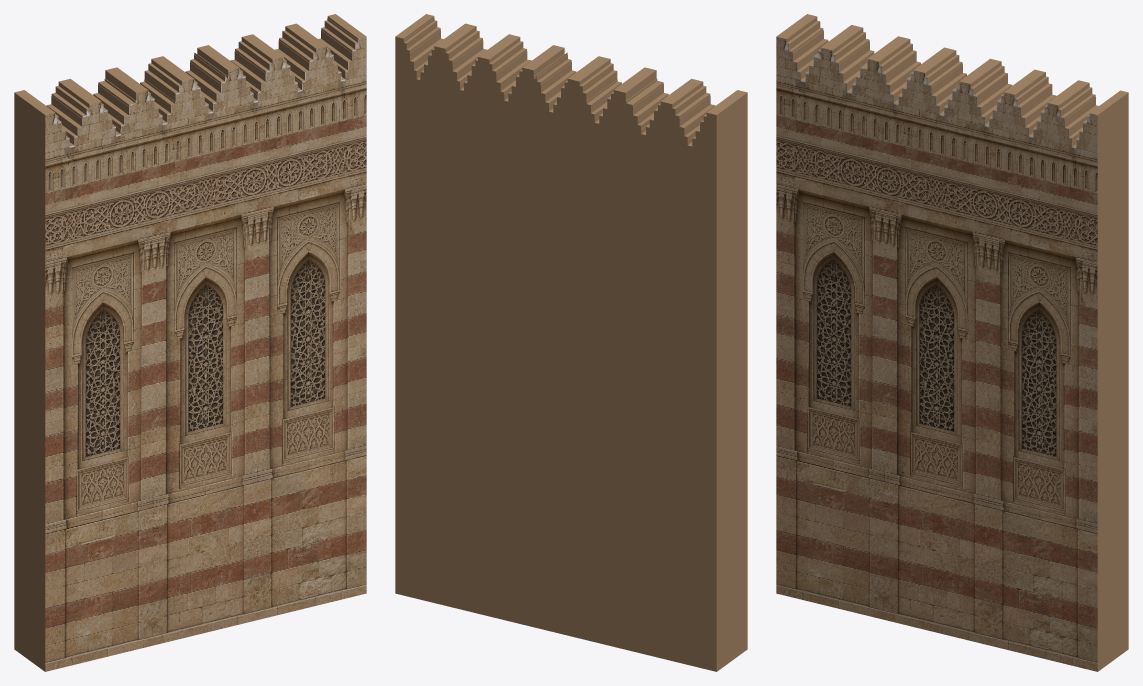
File: cai_mosque_wall.glb
3 renders of one model, left to right at view 1: azimuth 30°, elevation 25°; view 2: azimuth 150°, elevation 25°; view 3: azimuth 330°, elevation 25°, orthographic.
Parts seen in each view (by area): view 1: module; view 2: module; view 3: module.
Part boxes in pixels (x1=…): module: x1=14, y1=14, x2=366, y2=671; module: x1=395, y1=14, x2=747, y2=671; module: x1=776, y1=14, x2=1128, y2=671.
Bounding box in the file's own units: 6 × 9.93 × 1.
Materials: 2 (1 with a texture image).
